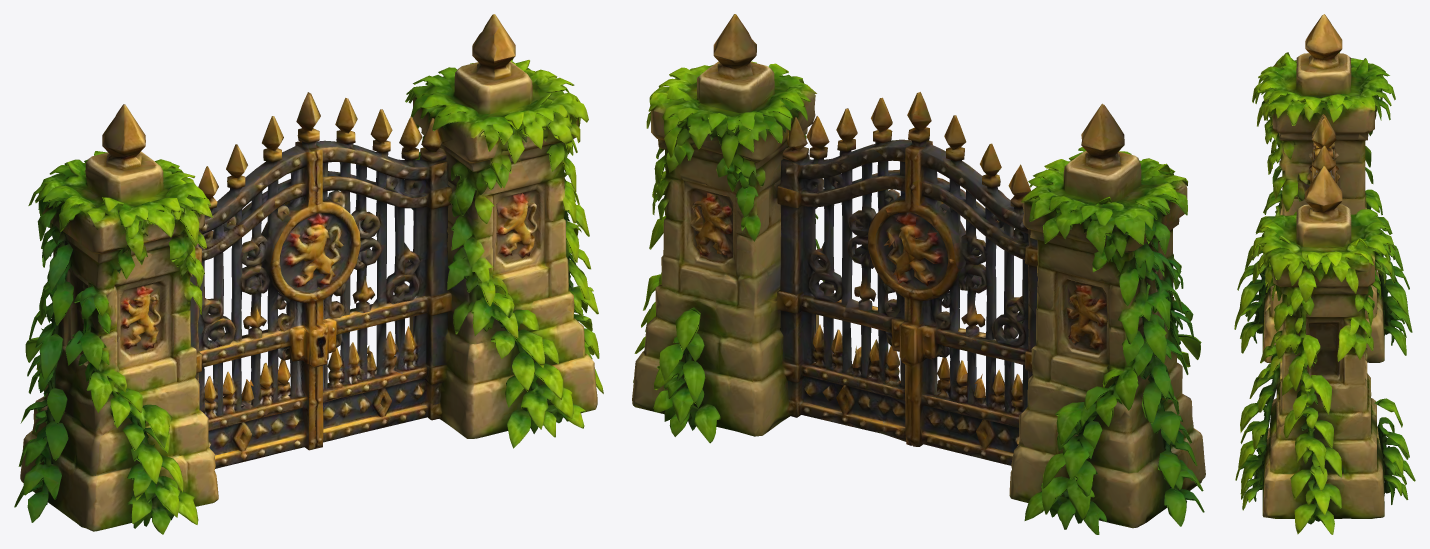
File: ornate gate 3d model.glb
The picture shows the model from 3 angles, left to right: view 1: azimuth 30°, elevation 25°; view 2: azimuth 150°, elevation 25°; view 3: azimuth 270°, elevation 25°; orthographic projection. The views are drawn at different scales.
Parts seen in each view (by area): view 1: tripo_node_29286394-6710-433d-8782-27165ae60b9f; view 2: tripo_node_29286394-6710-433d-8782-27165ae60b9f; view 3: tripo_node_29286394-6710-433d-8782-27165ae60b9f.
Boxes of the visible parts, box(x1,y1,x2,y2) form: tripo_node_29286394-6710-433d-8782-27165ae60b9f: box(14, 14, 603, 534); tripo_node_29286394-6710-433d-8782-27165ae60b9f: box(632, 14, 1205, 534); tripo_node_29286394-6710-433d-8782-27165ae60b9f: box(1234, 14, 1415, 534).
Size of the model in its own units: 1 by 0.6557 by 0.3264.
1 material, 1 textured.
